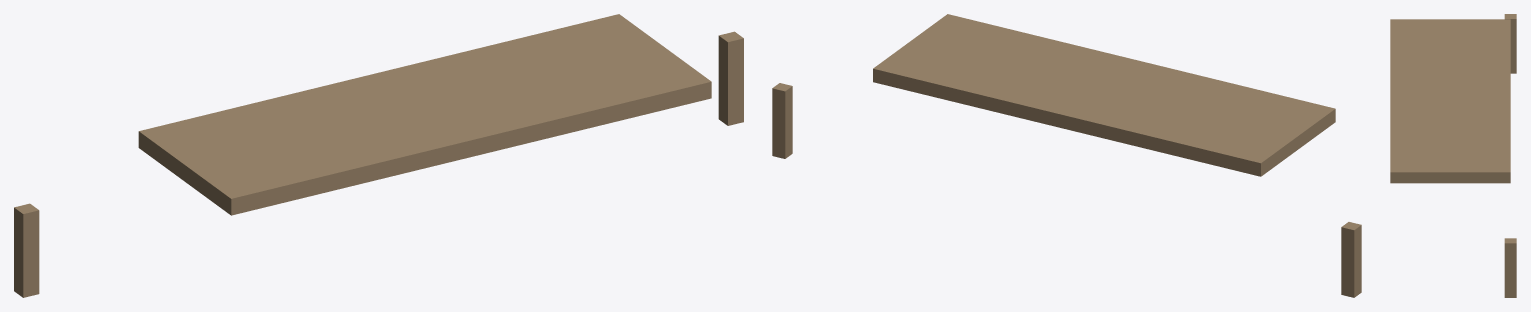
The model's file is wall_shelf.glb.
3 views of the same model, side by side, from view 1: azimuth 30°, elevation 25°; view 2: azimuth 150°, elevation 25°; view 3: azimuth 270°, elevation 25° (orthographic). The views are drawn at different scales.
Visible parts, largest first — view 1: wall_shelf; view 2: wall_shelf; view 3: wall_shelf.
Part boxes in pixels (left/top/right/bottom): wall_shelf: left=14, top=14, right=743, bottom=297; wall_shelf: left=772, top=14, right=1361, bottom=297; wall_shelf: left=1390, top=14, right=1516, bottom=297.
Size of the model in its own units: 0.45 by 0.08 by 0.105.
